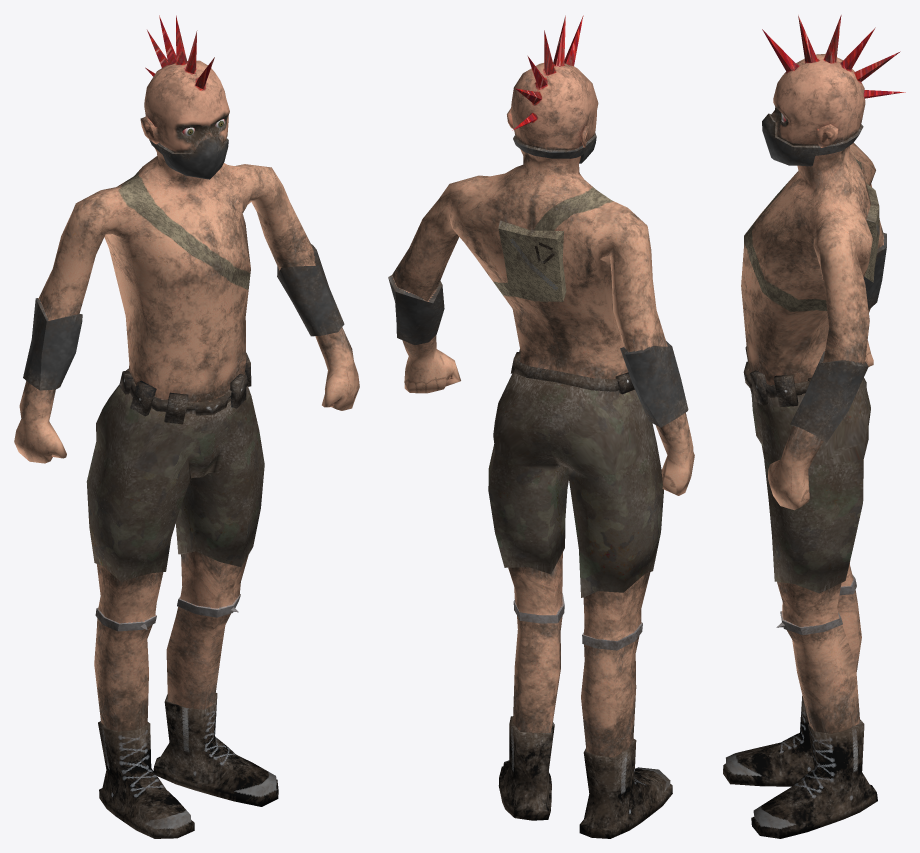
The model's file is Anim_interruptor_npc2.0037.obj.
3 views of the same model, side by side, from view 1: azimuth 30°, elevation 25°; view 2: azimuth 150°, elevation 25°; view 3: azimuth 270°, elevation 25° (orthographic). The views are drawn at different scales.
Visible parts, largest first — view 1: polySurface1; view 2: polySurface1; view 3: polySurface1.
Part boxes in pixels (x1,y1,x2,y2): polySurface1: (14, 15, 359, 838); polySurface1: (388, 15, 694, 838); polySurface1: (723, 15, 905, 838).
Size of the model in its own units: 4.28 by 10.17 by 2.13.
